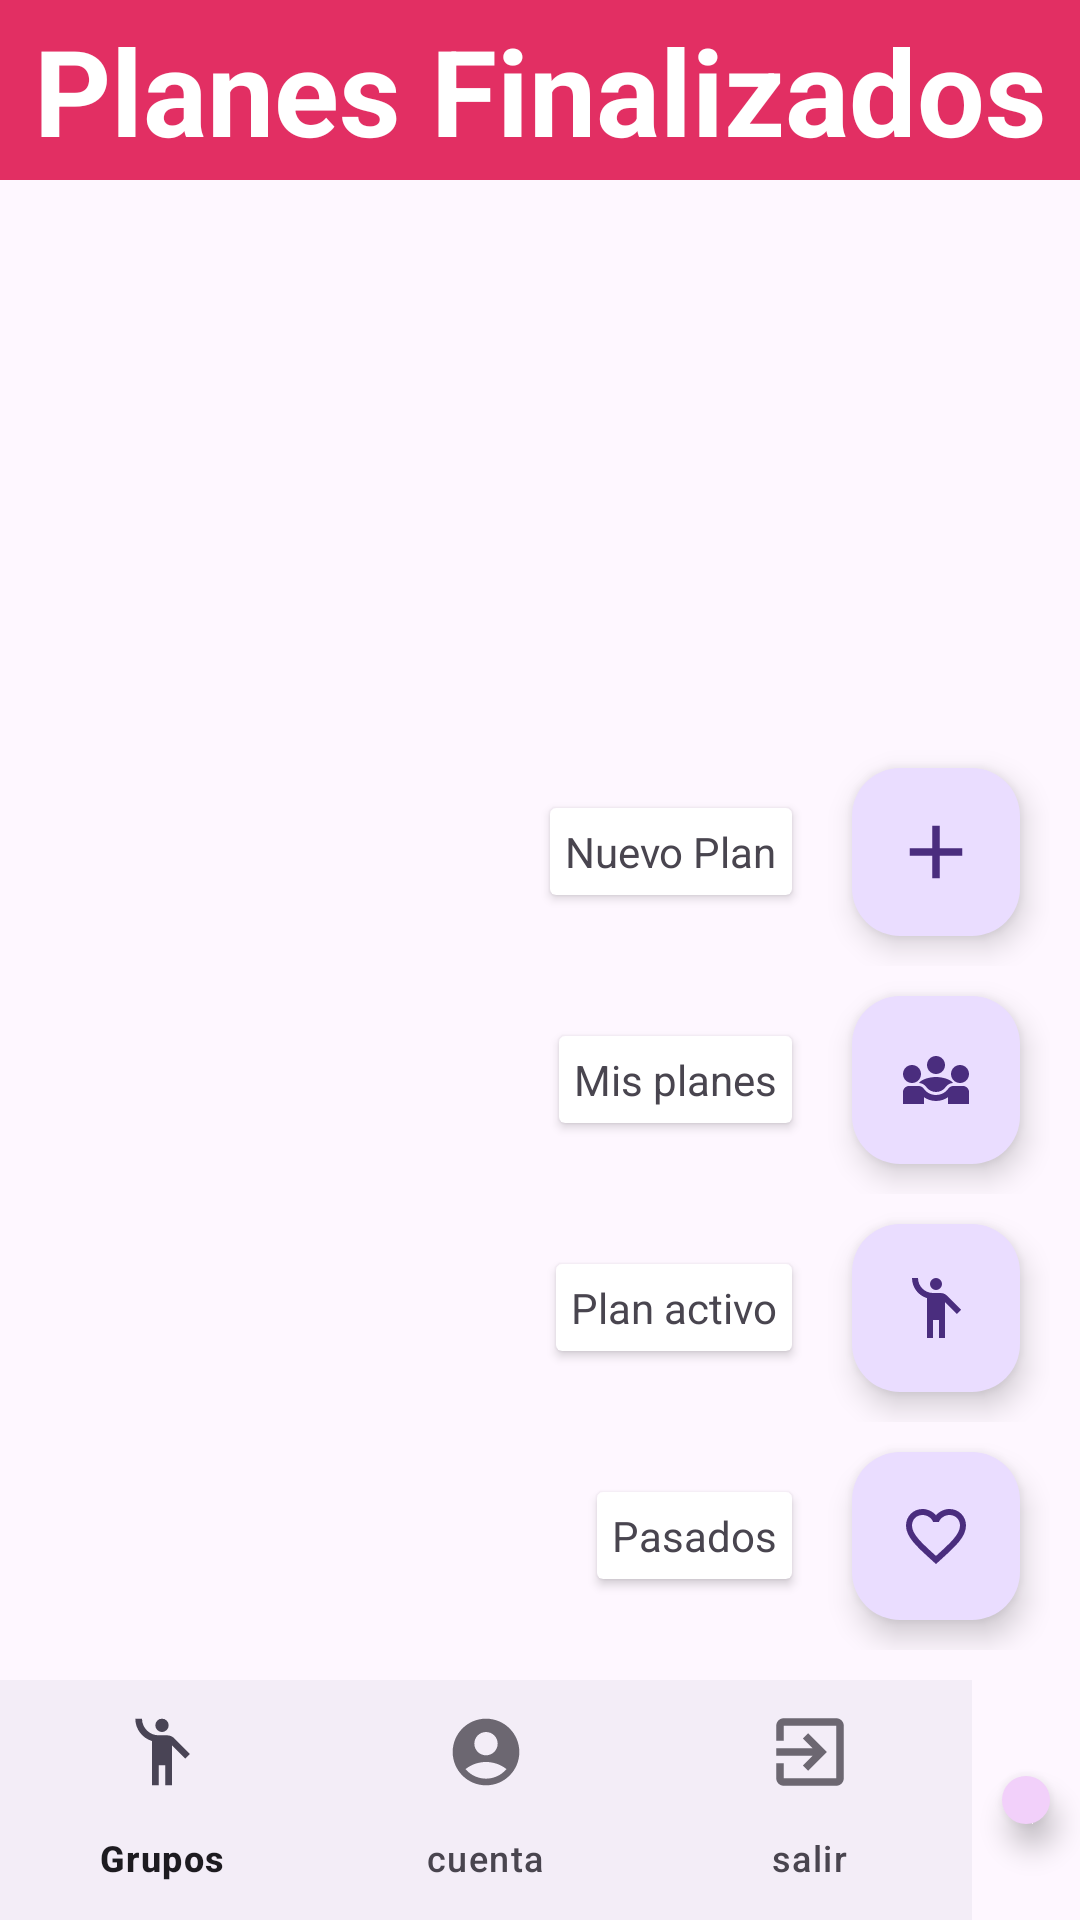

Screen size 1080px x 1920px. Icon name, then its box in pixels as (x1, y1, x2, y2):
mas: (852, 768, 1020, 936)
